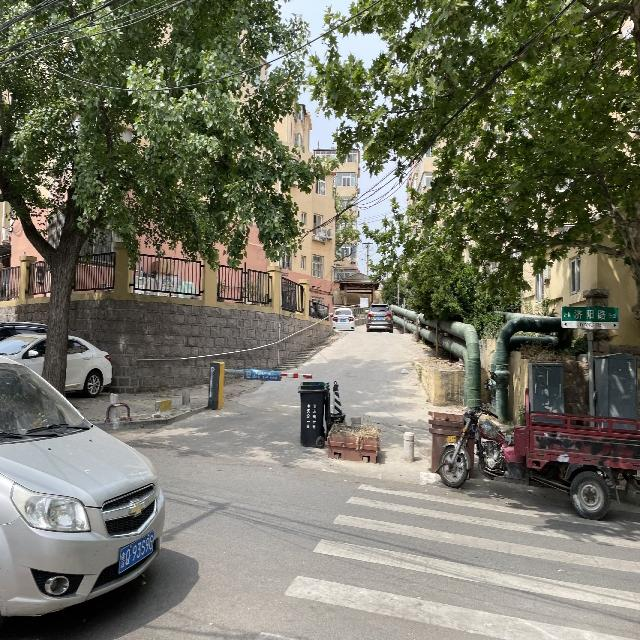garbage_bin: (297, 379, 324, 445)
